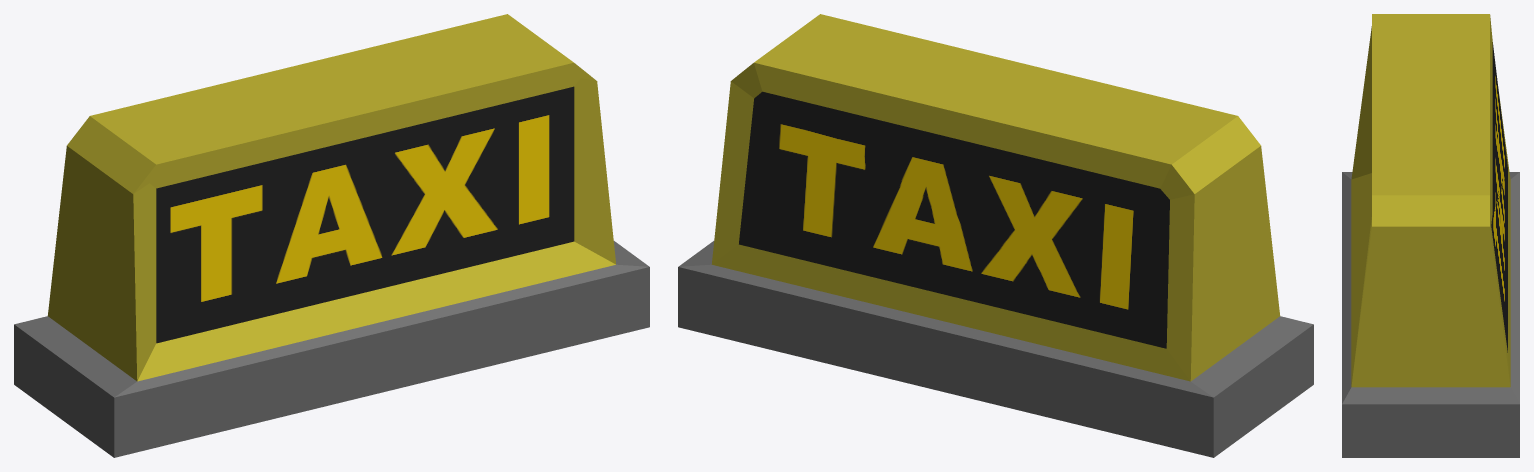
File: taxi_light 1.fbx
3 views of the same model, side by side, from view 1: azimuth 30°, elevation 25°; view 2: azimuth 150°, elevation 25°; view 3: azimuth 270°, elevation 25° (orthographic). The views are drawn at different scales.
Parts seen in each view (by area): view 1: SchoolBus.004; view 2: SchoolBus.004; view 3: SchoolBus.004.
Boxes of the visible parts, <box> form: SchoolBus.004: <box>14,14,649,457</box>; SchoolBus.004: <box>678,14,1313,457</box>; SchoolBus.004: <box>1342,14,1519,457</box>.
Bounding box in the file's own units: 0.3182 × 0.1524 × 0.1029.
